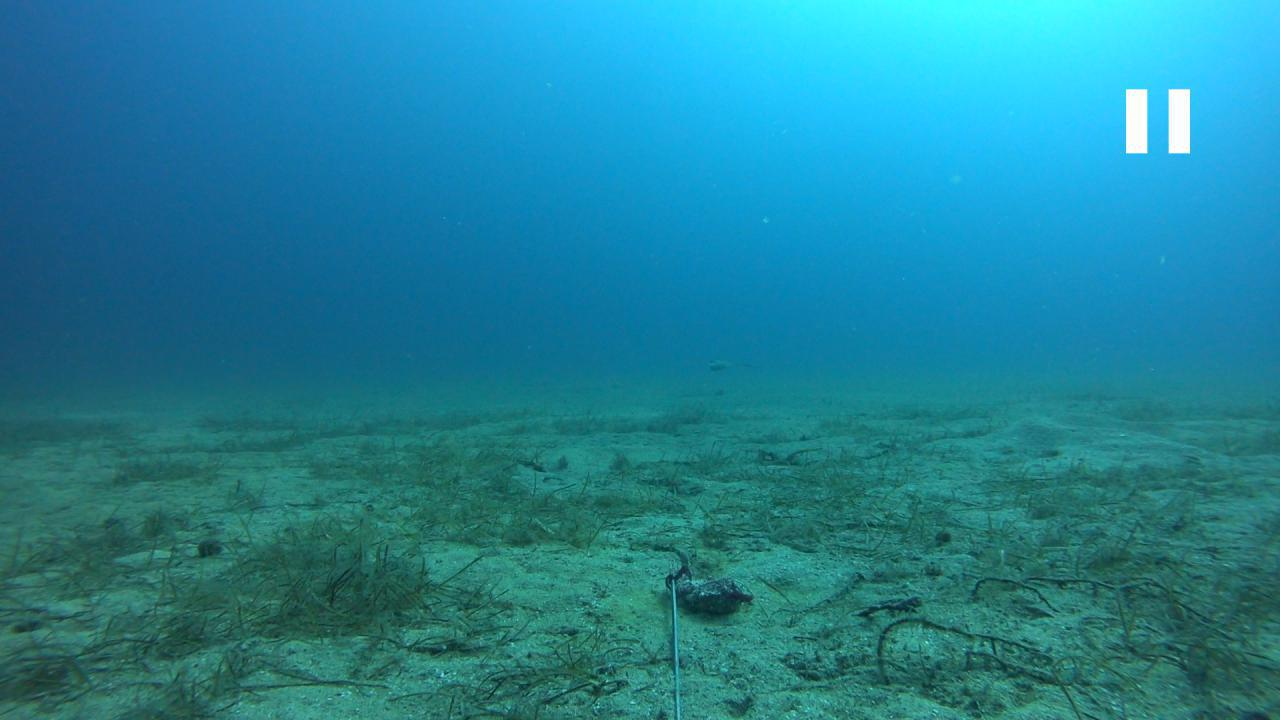dasyatis: (705, 356, 759, 370)
